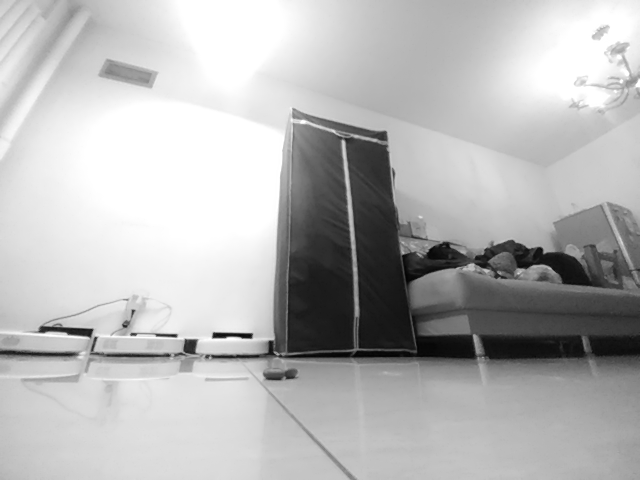pet feces: (262, 367, 300, 382)
